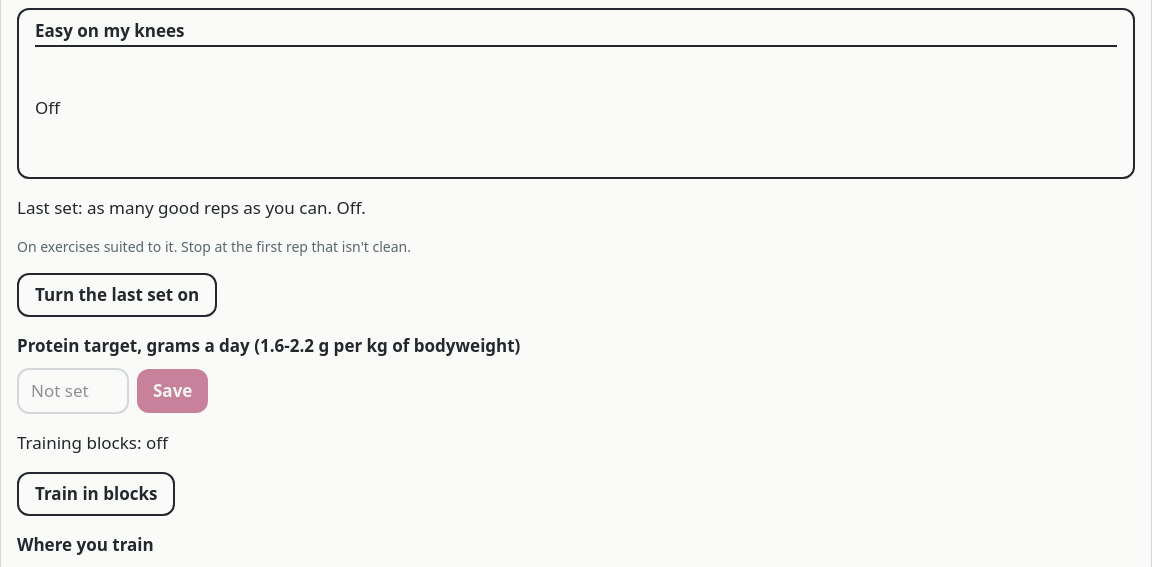
Test: the last set of as many good reps as you can is a switch, off by default (ADR-0084)
(page scrolled)
Expected: the text "Last set: as many good reps as you can. Off." is shown, 17,196 -> 366,219
Expected: the text "On exercises suited to it. Stop at the first rep that isn't clean." is shown, 17,237 -> 411,256
What coordinates should you click on to do the following:
click the button "Turn the last set on"
I would click on:
 (117, 295)
Its box is 17,273 -> 217,317.
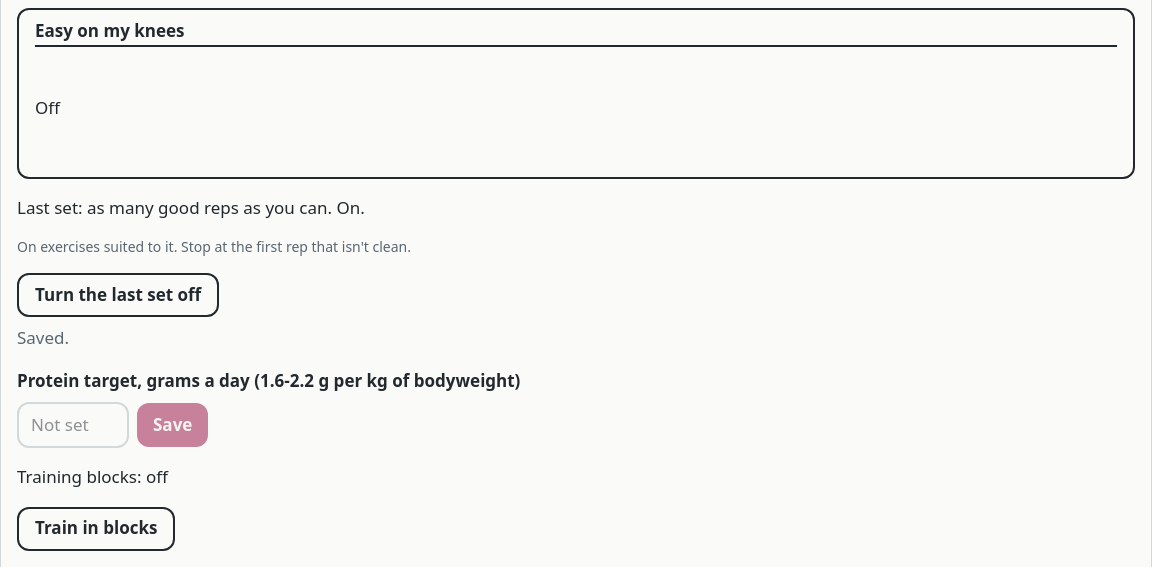
Result: the text "Last set: as many good reps as you can. On." is shown at 17,196 -> 365,219
What coordinates should you click on to do the following:
click the button "Turn the last set off"
I would click on:
 (118, 295)
Its box is 17,273 -> 219,317.
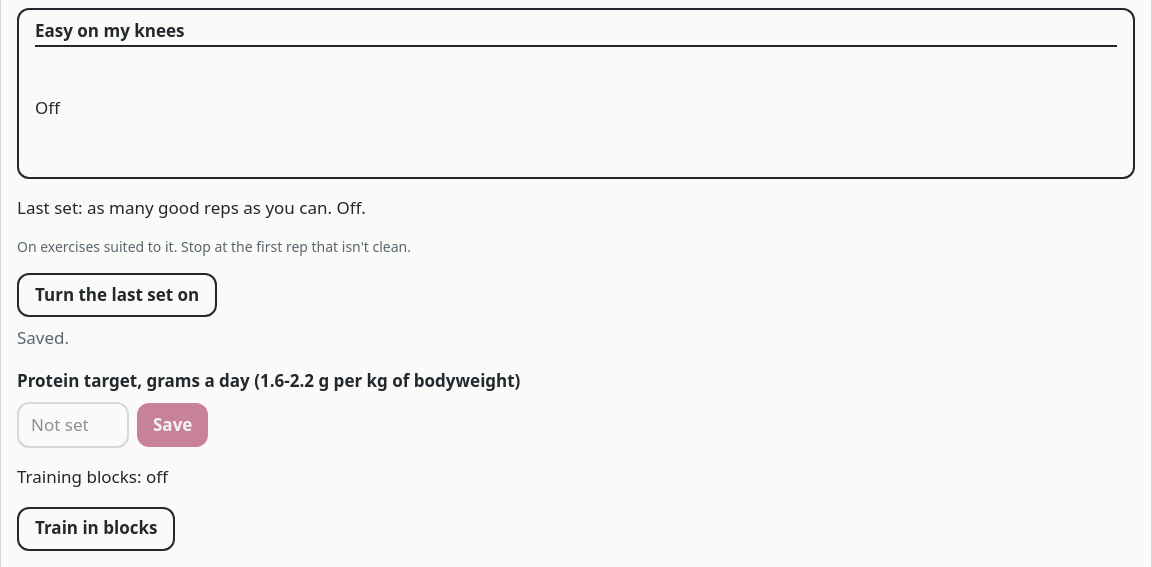
Result: the text "Last set: as many good reps as you can. Off." is shown at 17,196 -> 366,219
